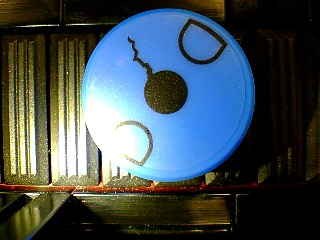CRACK: (82, 8, 255, 182)
